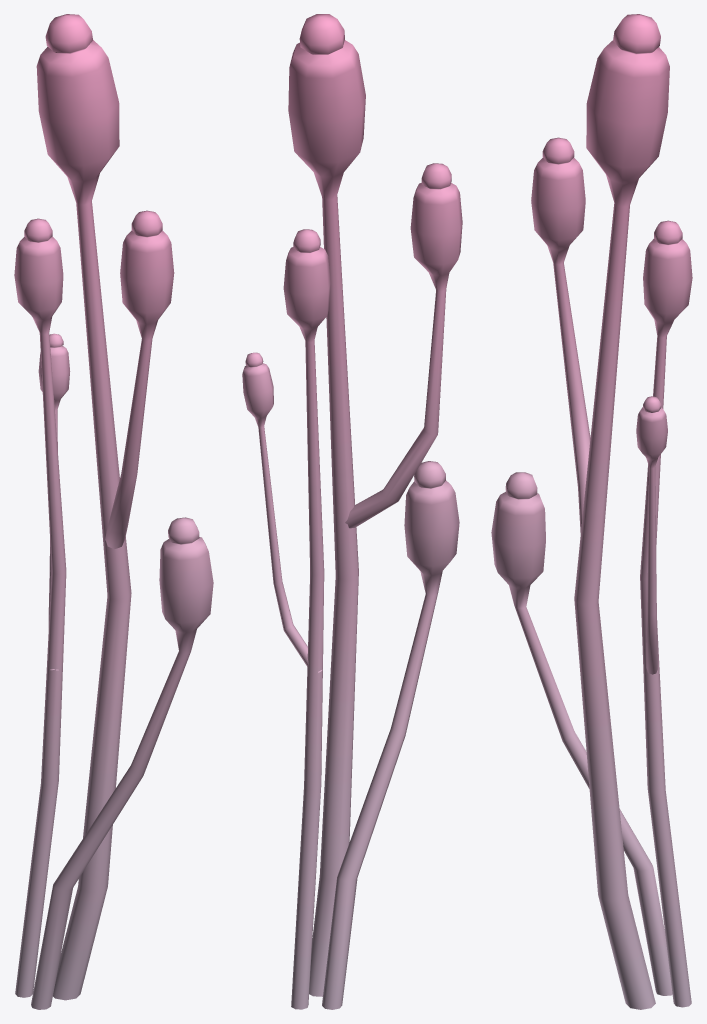
The model's file is setaM04.fbx.
3 views of the same model, side by side, from view 1: azimuth 90°, elevation 25°; view 2: azimuth 150°, elevation 25°; view 3: azimuth 270°, elevation 25° (orthographic).
Visible parts, largest first — view 1: SetaM04; view 2: SetaM04; view 3: SetaM04.
Boxes of the visible parts, <box> form: SetaM04: <box>14,14,213,1009</box>; SetaM04: <box>242,14,462,1009</box>; SetaM04: <box>491,14,692,1009</box>.
Size of the model in its own units: 1035 by 5659 by 1045.
